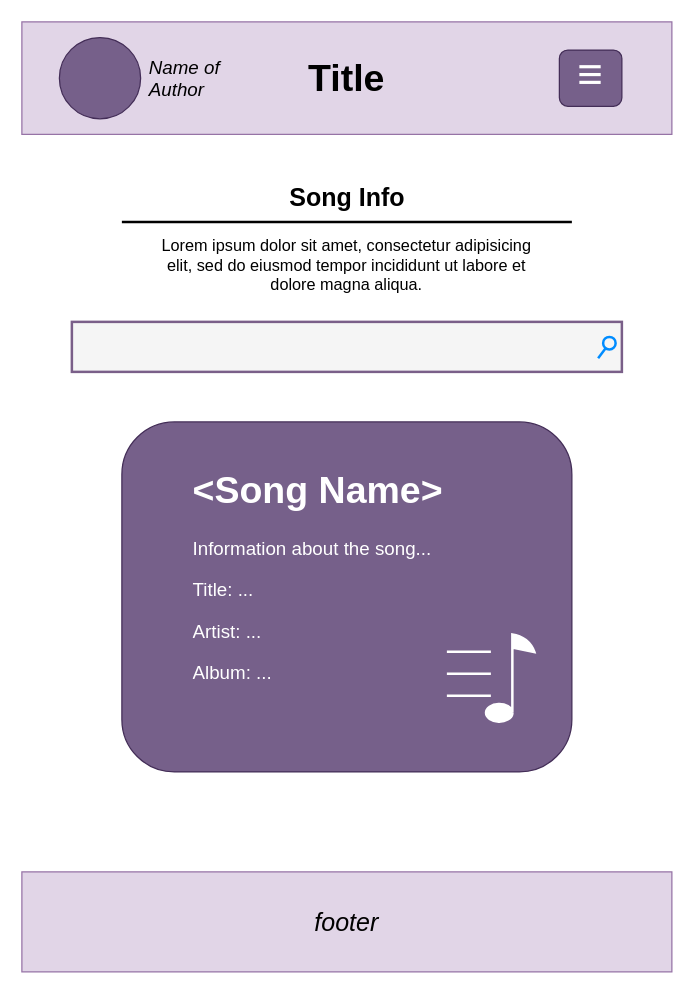
Image size: 694x994. Some labels were removed from this diagram. The shapes that lost their labels are listed below. From the top down, each one's centre as x and y in pixels, then its label:
point 99,77: logo
point 346,346: Search (user can type here to search any song from Spotify)
